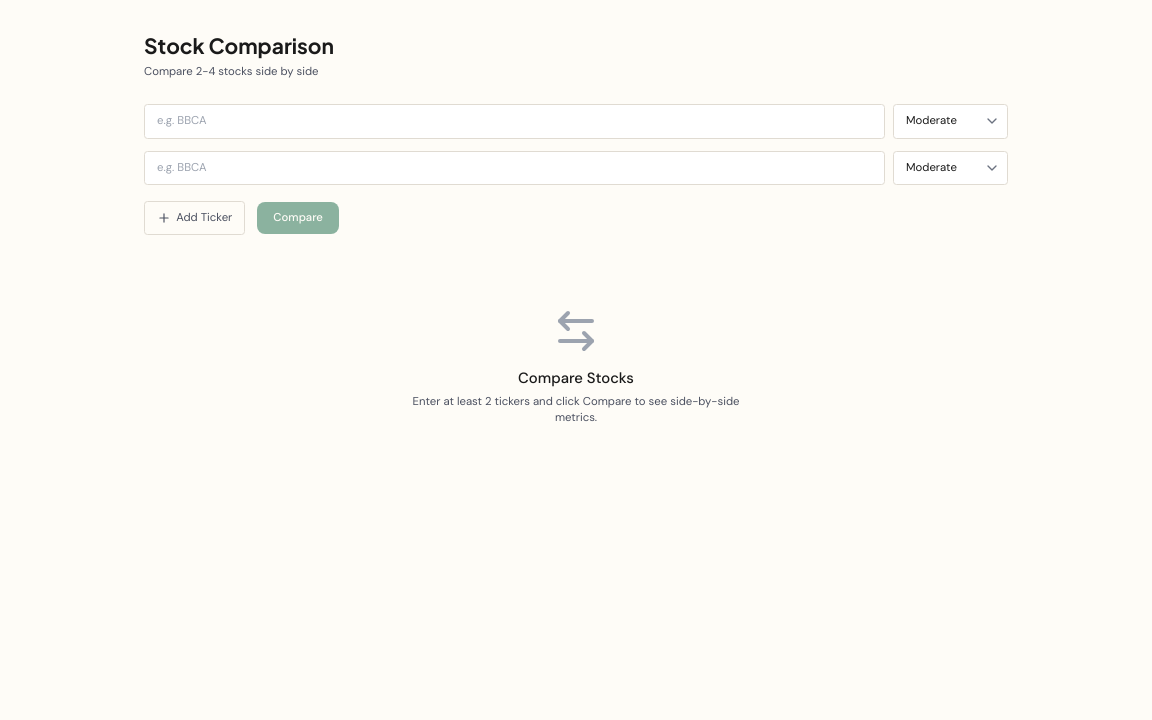
Test: ComparisonPage › handles partial failures
In the 1st field with placeholder "e.g. BBCA": (514,121) left=144, top=104, right=885, bottom=139, type "BBCA"
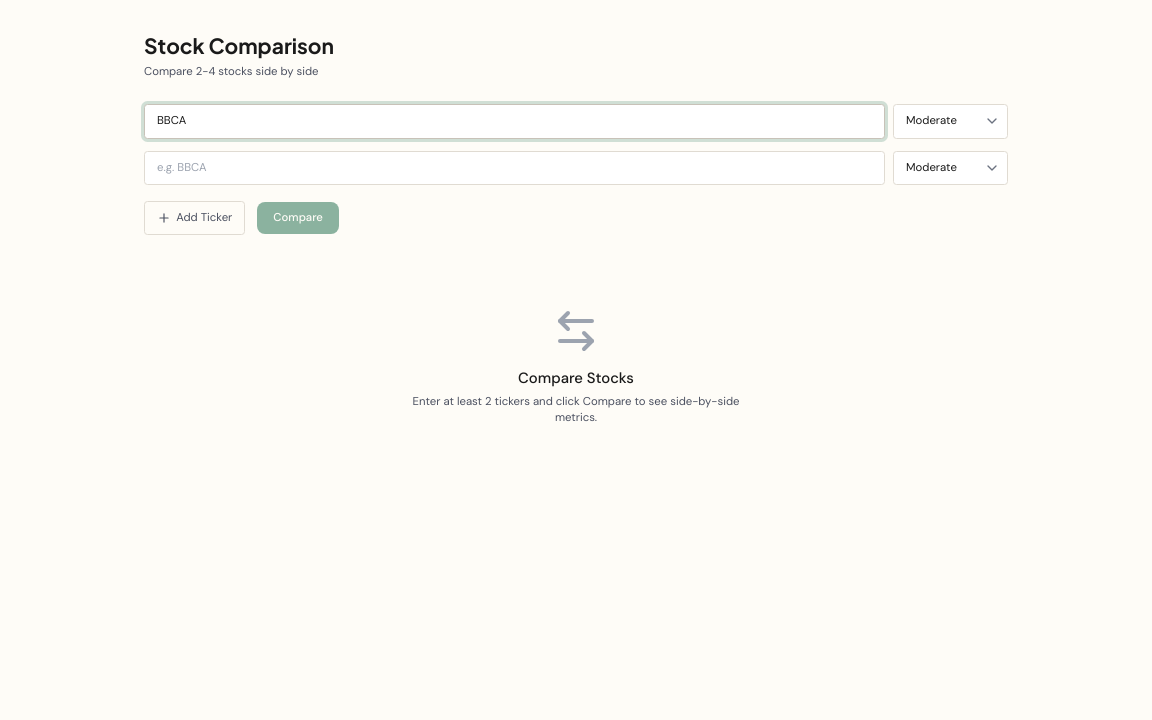
In the field with placeholder "e.g. BBCA": (514,168) left=144, top=150, right=885, bottom=185, type "XXXX"
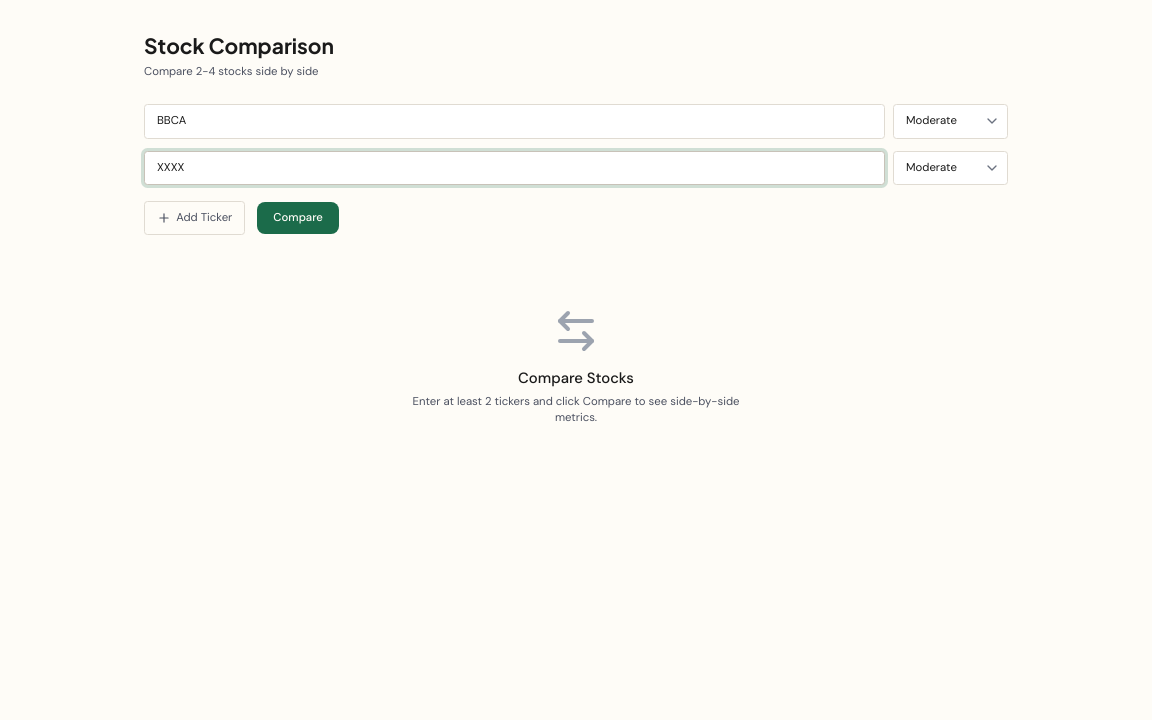
Click the button "Compare": (298,218) left=257, top=202, right=339, bottom=234
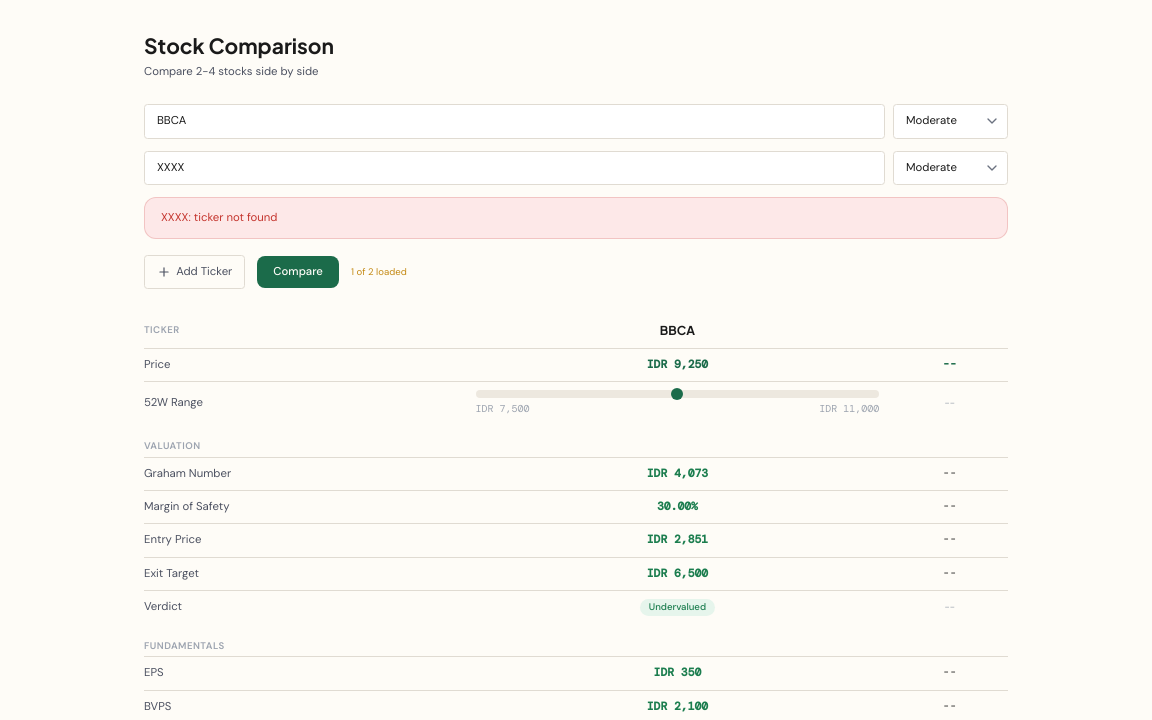
Result: the text "XXXX: ticker not found" is shown at left=161, top=210, right=277, bottom=226
Result: the column heading "BBCA" is shown at left=464, top=313, right=891, bottom=348
Result: the text "1 of 2 loaded" is shown at left=351, top=266, right=407, bottom=278
